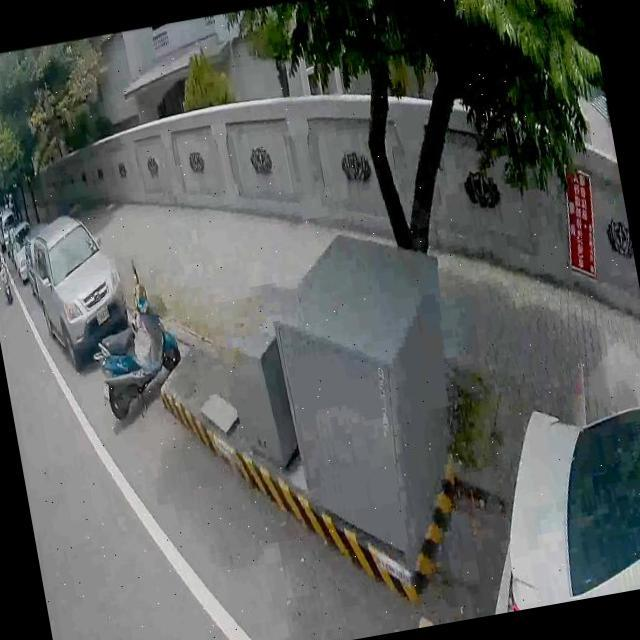person: (0, 249, 7, 272)
